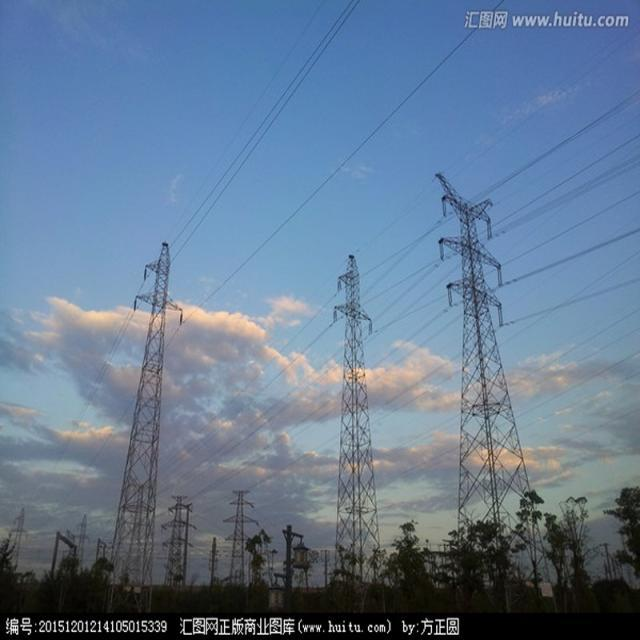non-critical vegetation: (428, 162, 540, 570), (108, 232, 186, 577), (326, 251, 388, 586), (224, 484, 252, 582), (163, 493, 187, 588)
